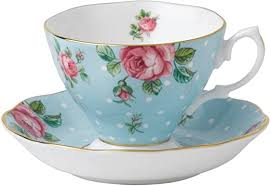cup: (41, 1, 268, 144)
